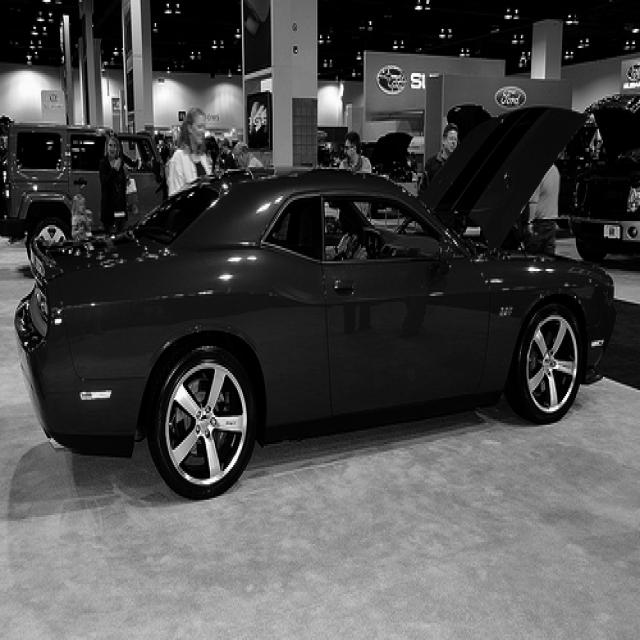car: (14, 102, 616, 500)
